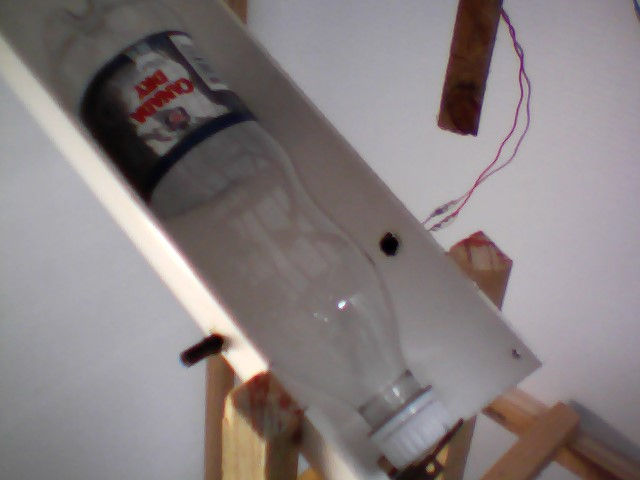plastico: (36, 2, 467, 473)
